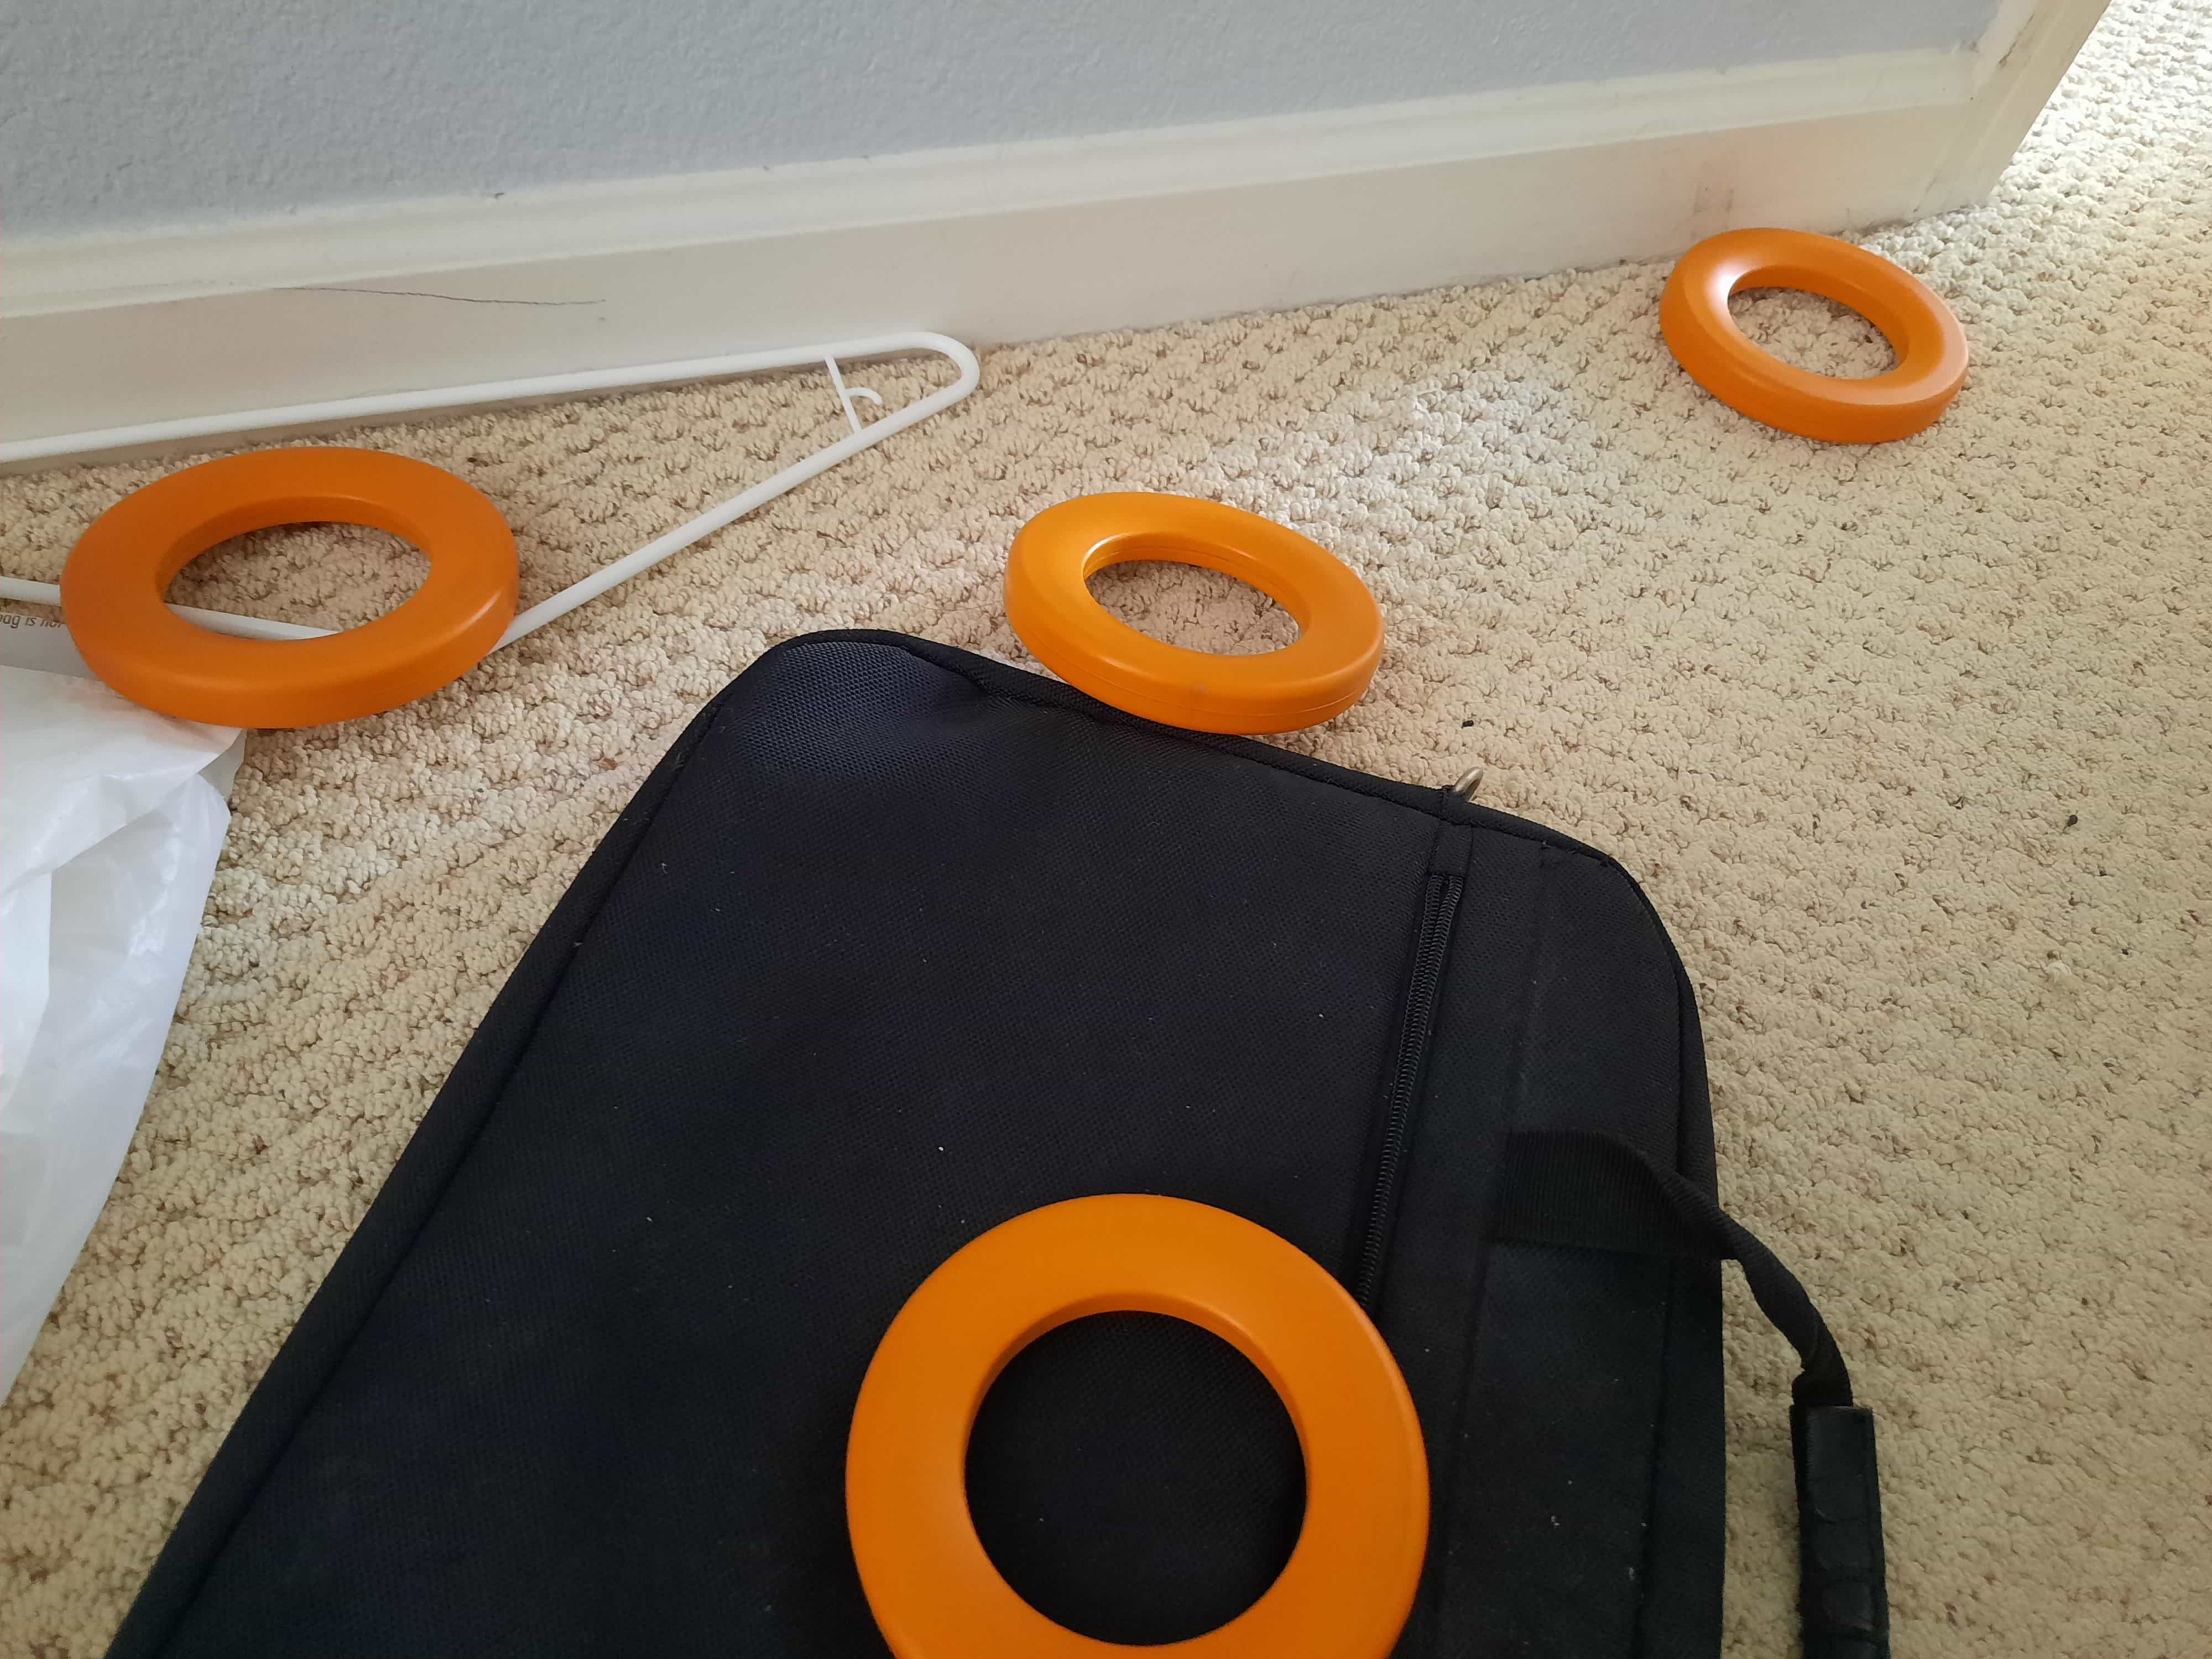OneStack: (853, 1192, 1437, 1652), (68, 450, 519, 721), (1005, 476, 1383, 732), (1670, 242, 1968, 441)
